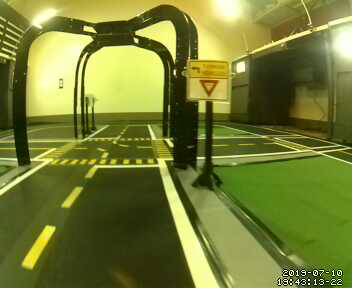Turn Yield: (187, 60, 231, 104)
